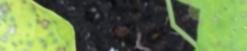Tomato Septoria leaf spot: (113, 0, 243, 46), (4, 19, 109, 51)
